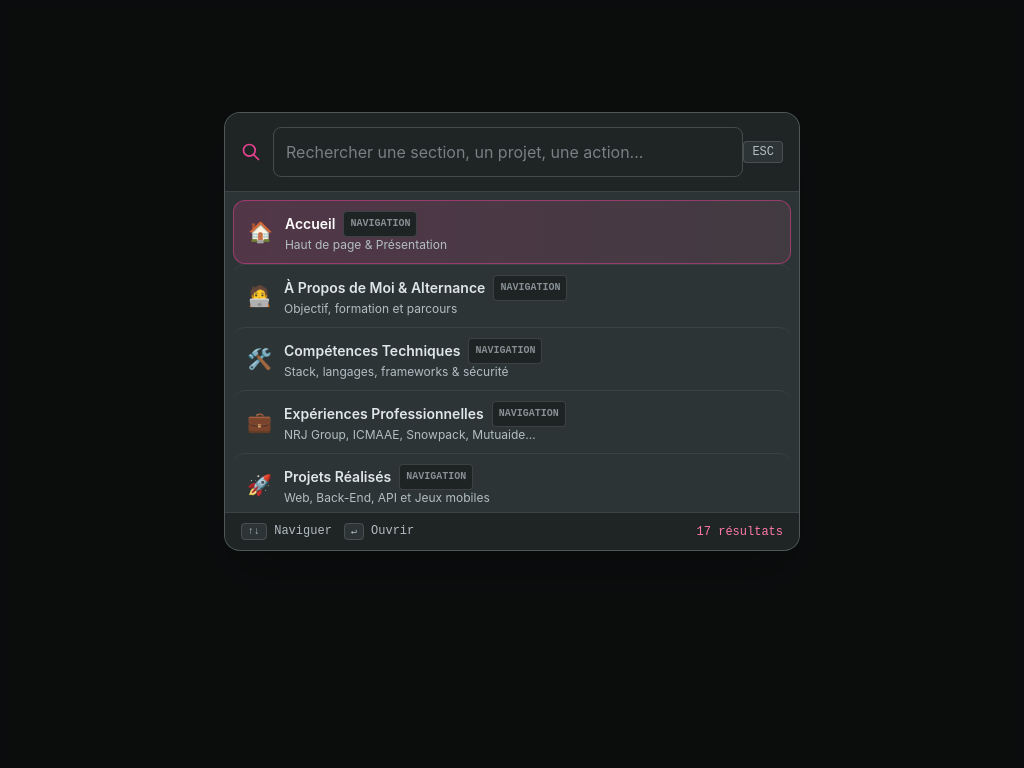
it: CommandPalette filters commands based on search input
The width and height of the screenshot is (1024, 768).
Type "Télécharger" into the field with placeholder "Rechercher une section, un projet, une action..." at (508, 152), box [273,127,743,177]
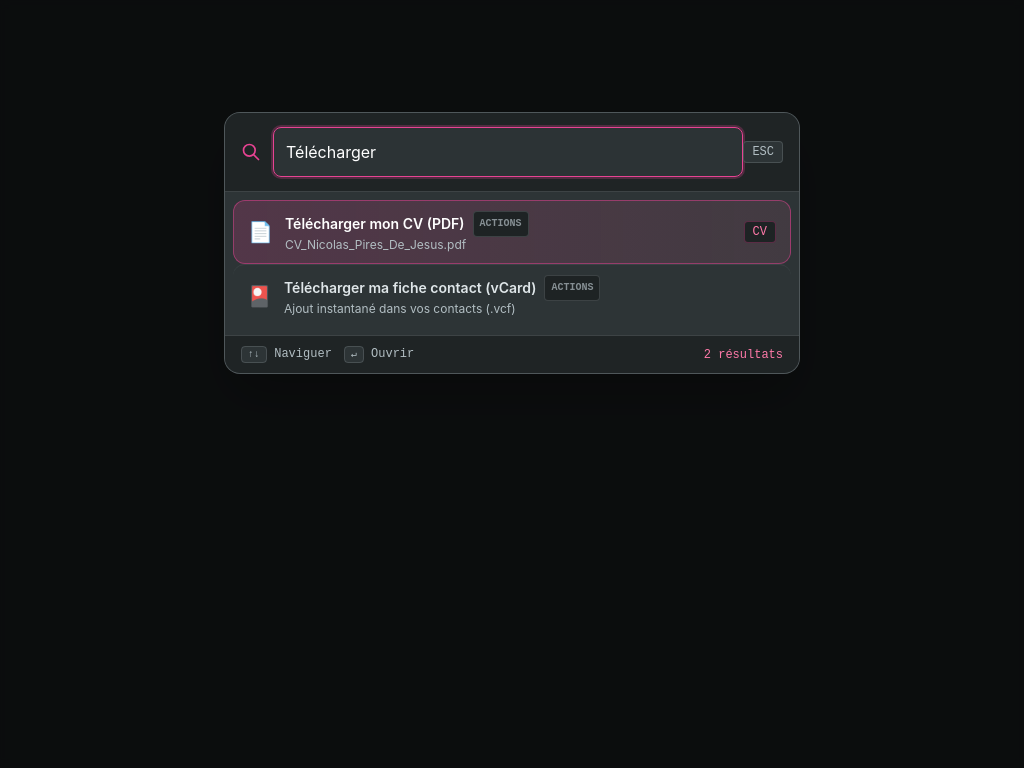
Now the text "Télécharger mon CV (PDF)" is shown, box [285,214,465,234]
